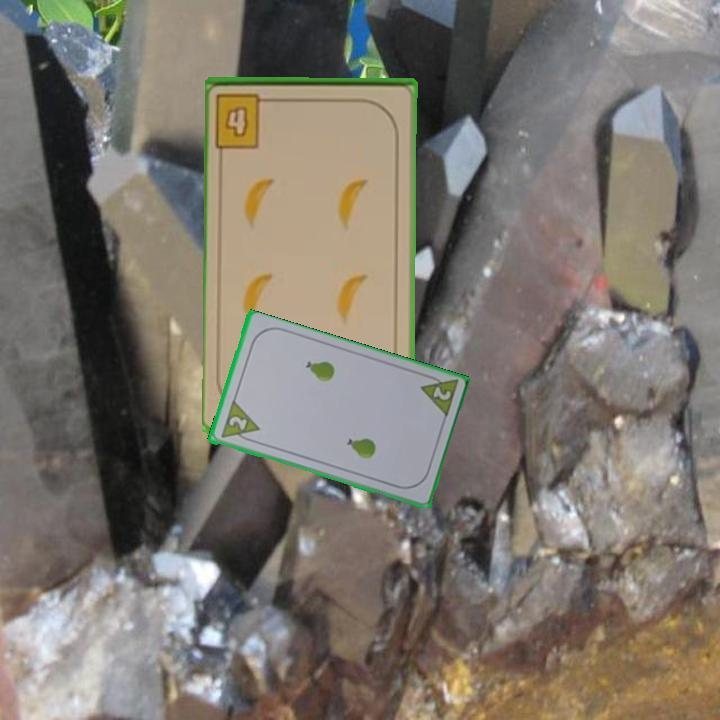2p: (416, 370, 461, 421), (225, 412, 250, 433)
4b: (212, 89, 278, 150)
